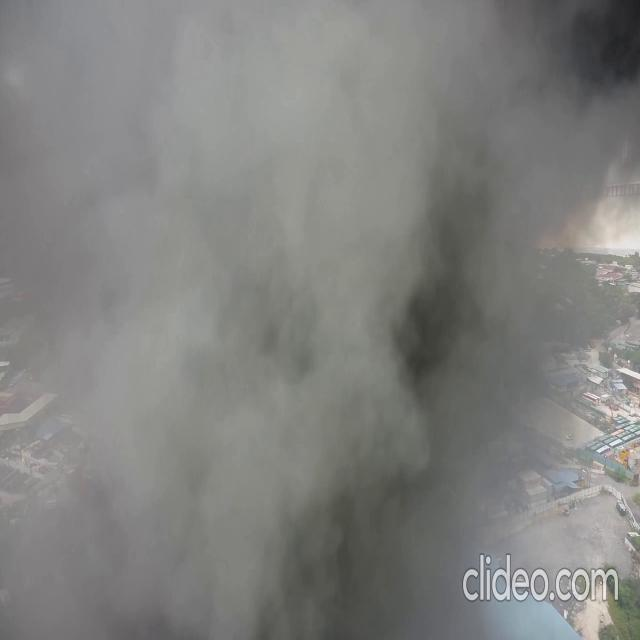Smoke: (32, 5, 552, 640)
